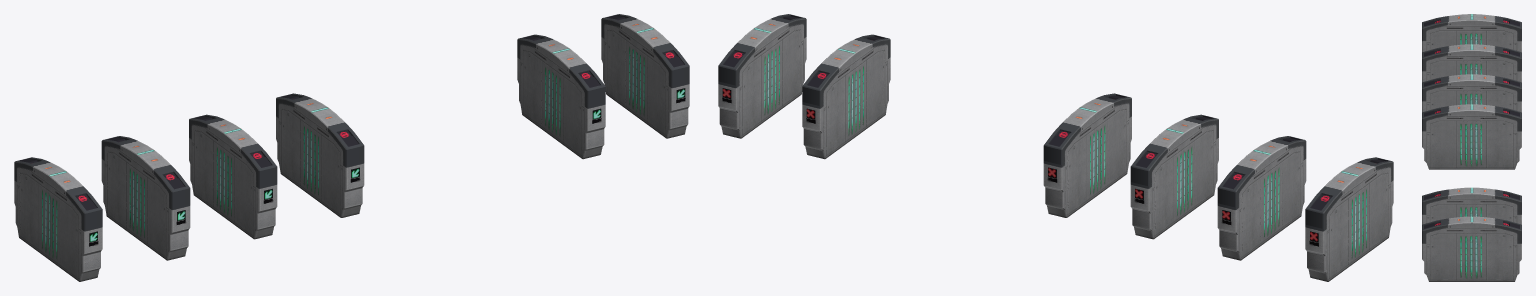
The model's file is Tourniquet01a_Group.FBX.
3 renders of one model, left to right at view 1: azimuth 30°, elevation 25°; view 2: azimuth 150°, elevation 25°; view 3: azimuth 270°, elevation 25°, orthographic. The views are drawn at different scales.
Parts seen in each view (by area): view 1: Tourniquet01a_Group; view 2: Tourniquet01a_Group; view 3: Tourniquet01a_Group.
Part boxes in pixels (x1,y1,x2,y2): Tourniquet01a_Group: (14, 14, 689, 281); Tourniquet01a_Group: (718, 14, 1393, 281); Tourniquet01a_Group: (1422, 14, 1521, 281).
Bounding box in the file's own units: 9597 × 1272 × 1940.
